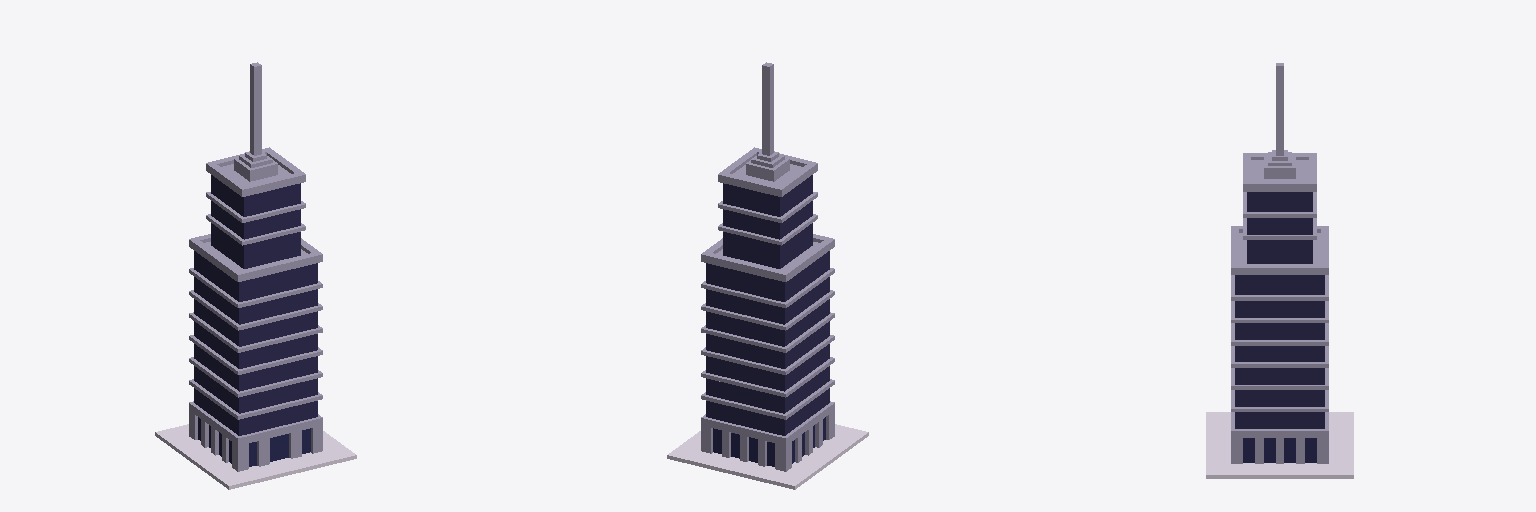
3 views of the same model, side by side, from view 1: azimuth 30°, elevation 25°; view 2: azimuth 150°, elevation 25°; view 3: azimuth 270°, elevation 25° (orthographic).
Parts seen in each view (by area): view 1: 6; view 2: 6; view 3: 6.
Part boxes in pixels (left/top/right/bottom): 6: left=155, top=62, right=356, bottom=489; 6: left=667, top=62, right=868, bottom=489; 6: left=1206, top=63, right=1353, bottom=478.
Bounding box in the file's own units: 36 × 103 × 36.
Materials: 1 (1 with a texture image).